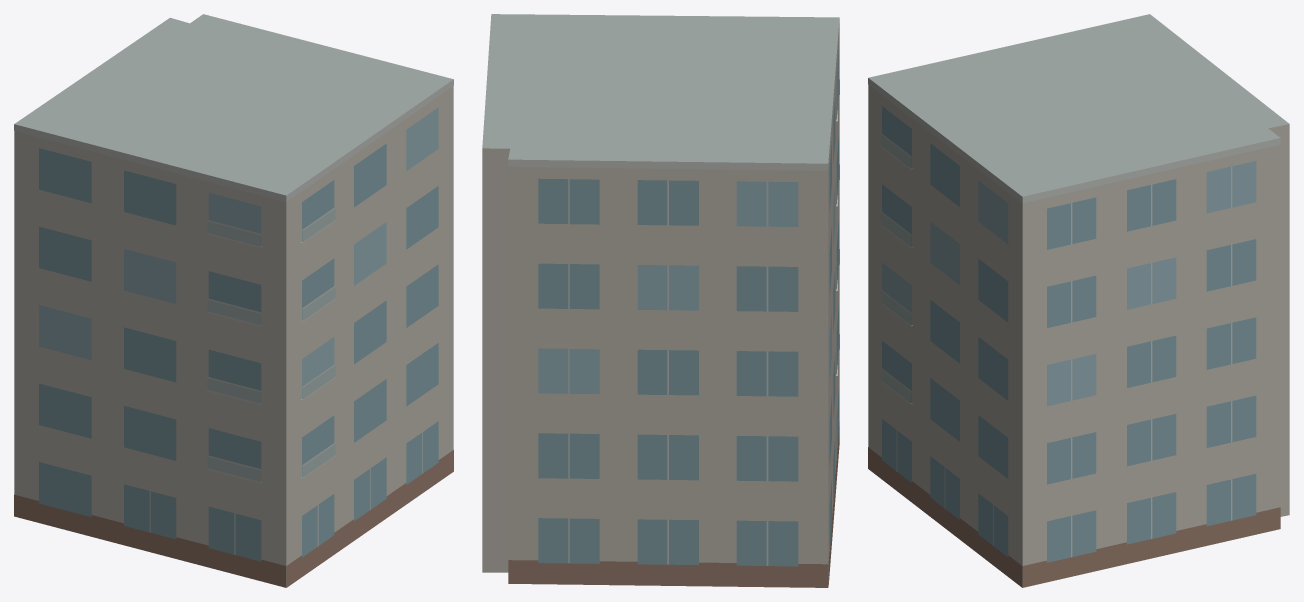
Rendered from survey-upis-32741561.glb.
The picture shows the model from 3 angles, left to right: view 1: azimuth 30°, elevation 25°; view 2: azimuth 150°, elevation 25°; view 3: azimuth 270°, elevation 25°; orthographic projection. The views are drawn at different scales.
Parts seen in each view (by area): view 1: survey-upis-32741561.tmp; view 2: survey-upis-32741561.tmp; view 3: survey-upis-32741561.tmp.
Boxes of the visible parts, box(x1,y1,x2,y2) form: survey-upis-32741561.tmp: box(14, 14, 453, 587); survey-upis-32741561.tmp: box(482, 14, 839, 587); survey-upis-32741561.tmp: box(868, 14, 1289, 587).
Bounding box in the file's own units: 14.64 × 14.6 × 14.27.
